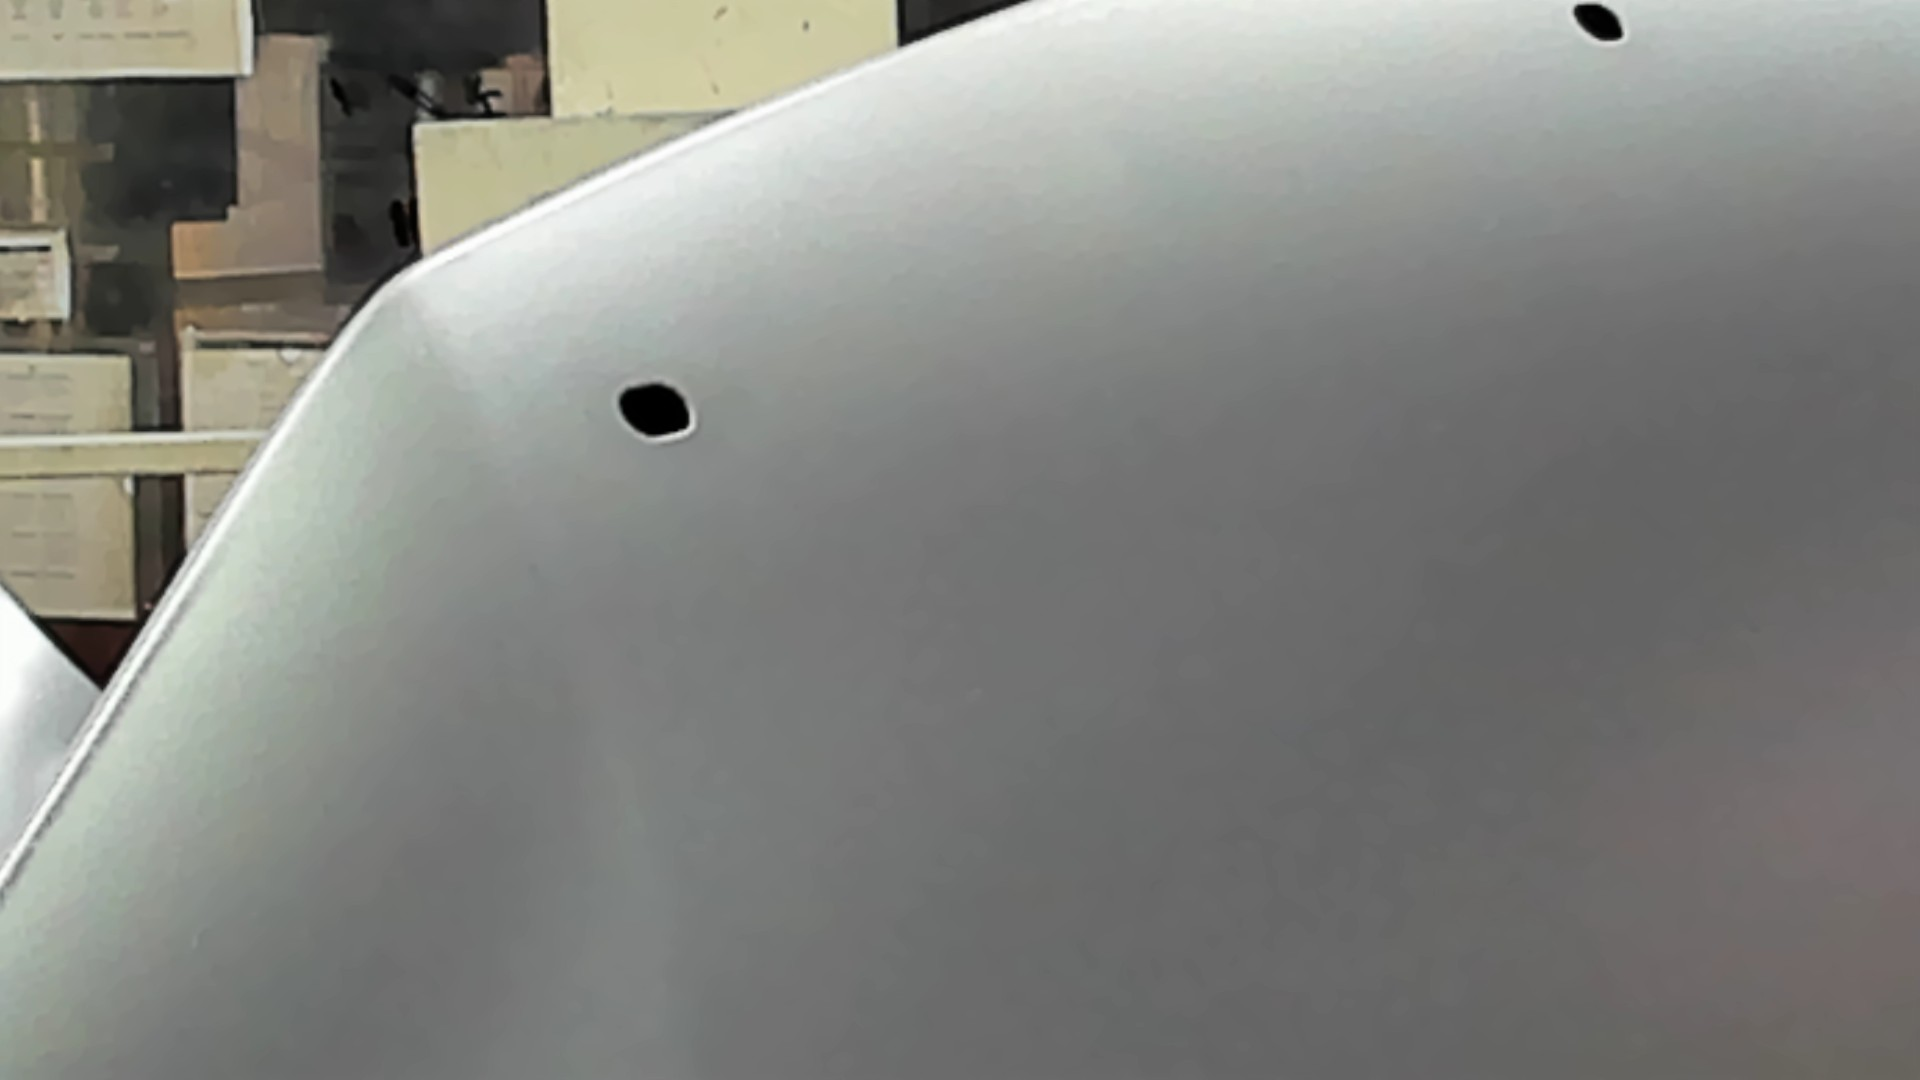amorfo: (615, 378, 695, 446), (1569, 1, 1633, 50)
capo: (778, 135, 1920, 1080)
